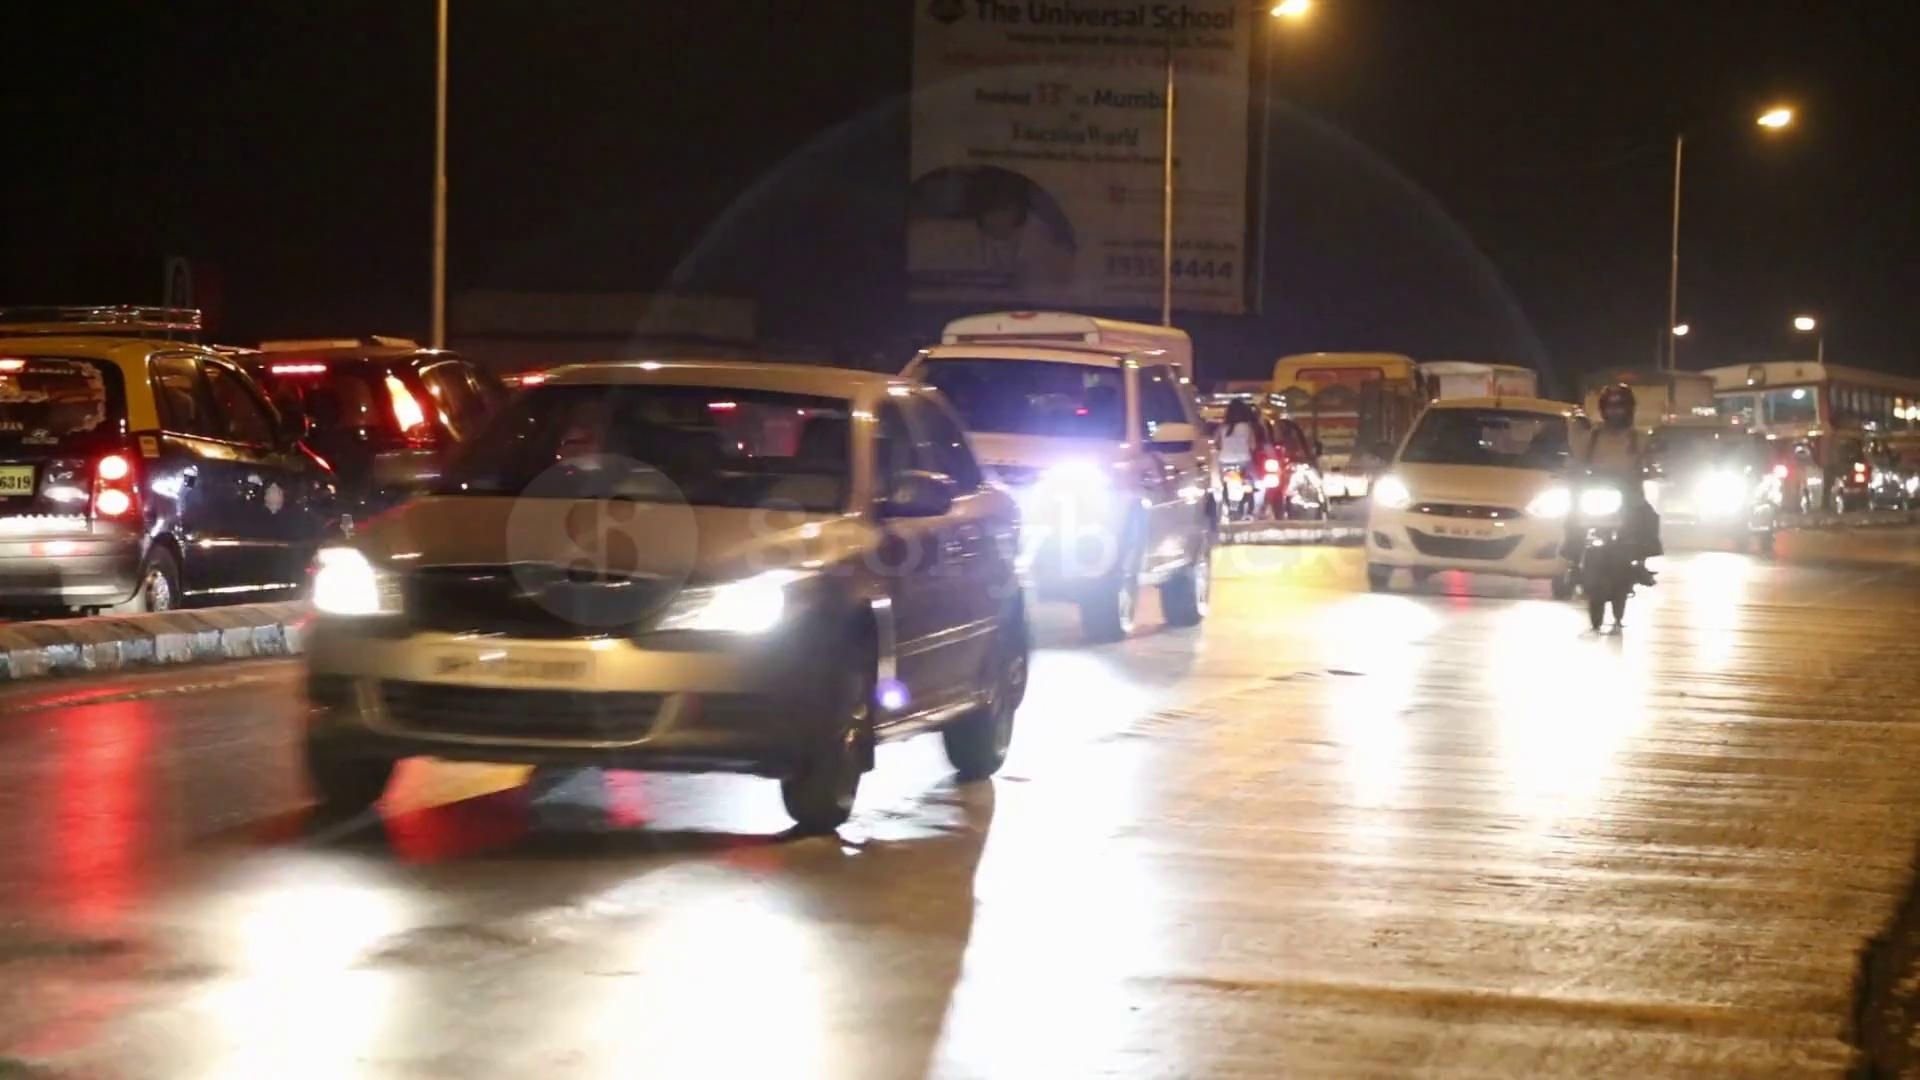rider: (1556, 381, 1663, 635)
